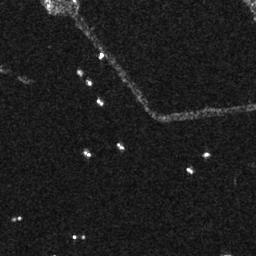ship: (82, 149, 92, 157), (96, 98, 104, 106), (97, 52, 106, 59), (76, 69, 84, 76), (116, 143, 124, 150), (186, 167, 194, 174), (87, 79, 93, 86), (203, 152, 210, 158)
